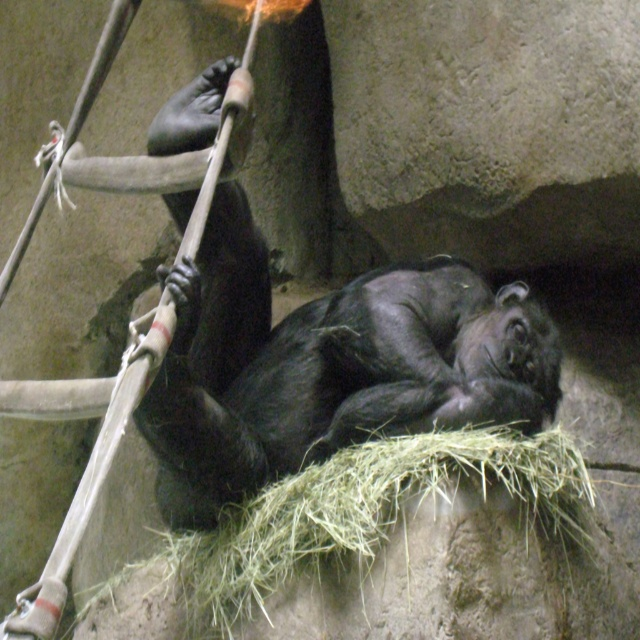Monkey: (101, 56, 560, 510)
